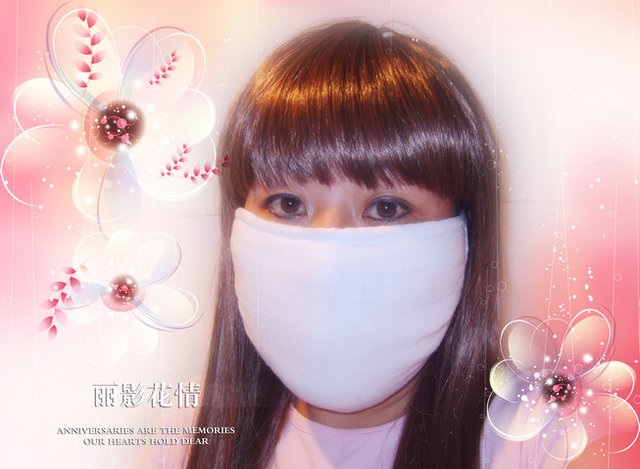face_mask: (234, 111, 461, 408)
